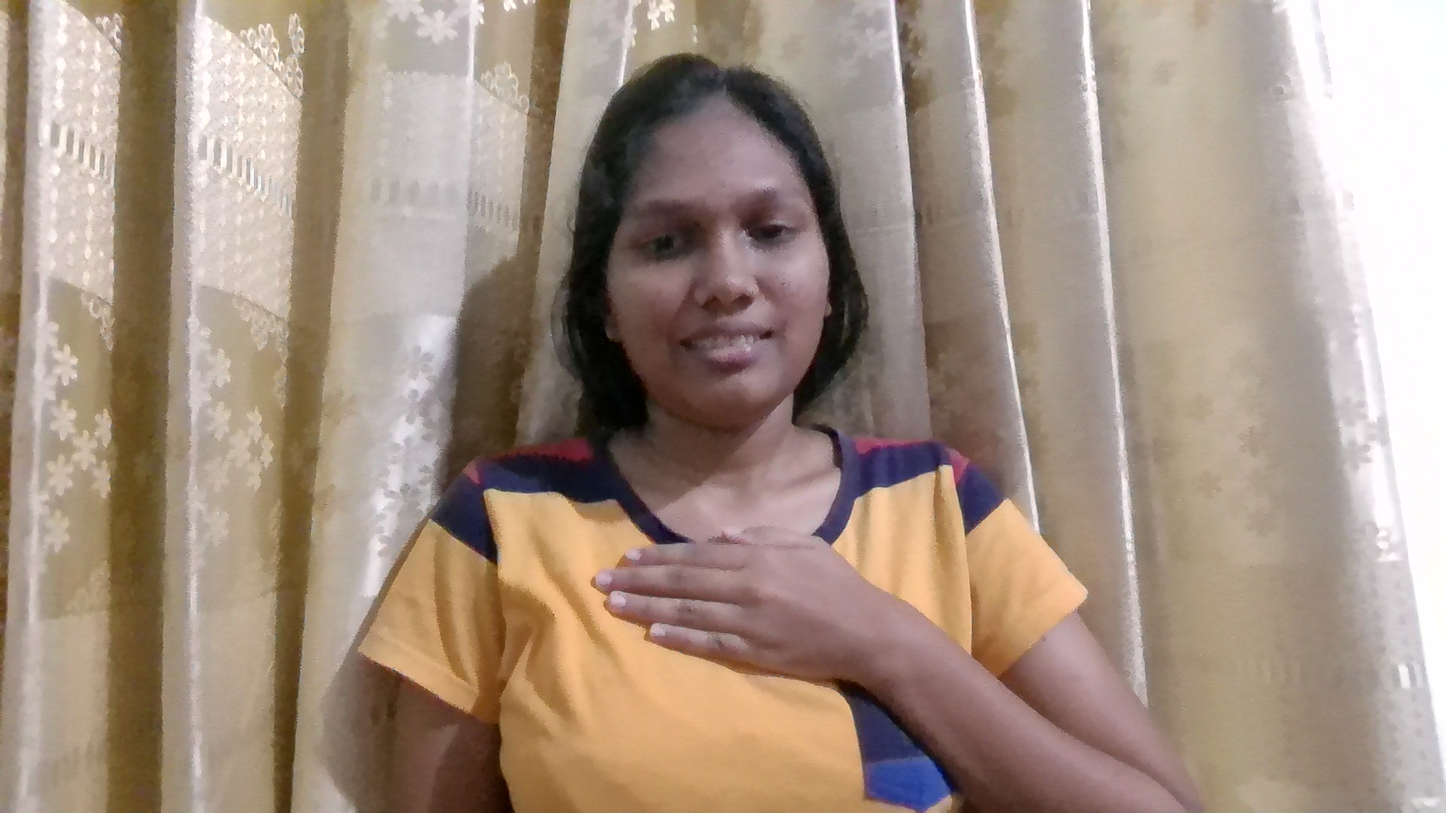Please: (595, 497, 932, 759)
